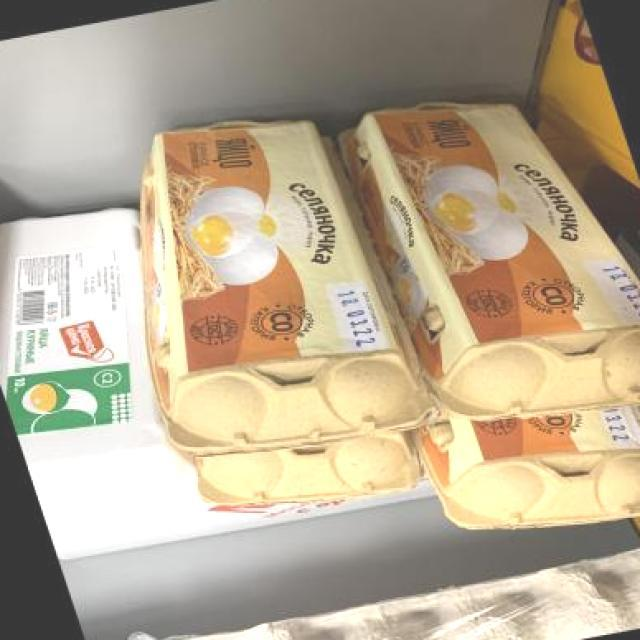egg: (86, 102, 443, 474), (325, 71, 640, 442), (0, 198, 228, 533), (429, 398, 640, 546), (193, 427, 412, 525)
